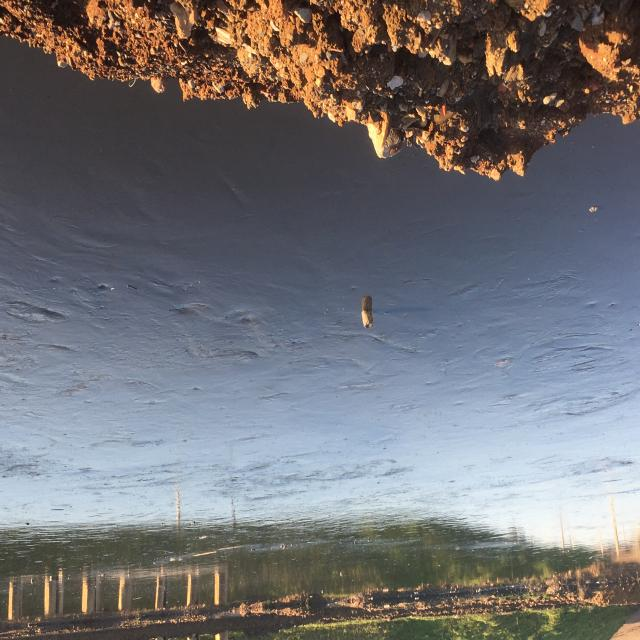Plastic bottle: (360, 305, 376, 333)
